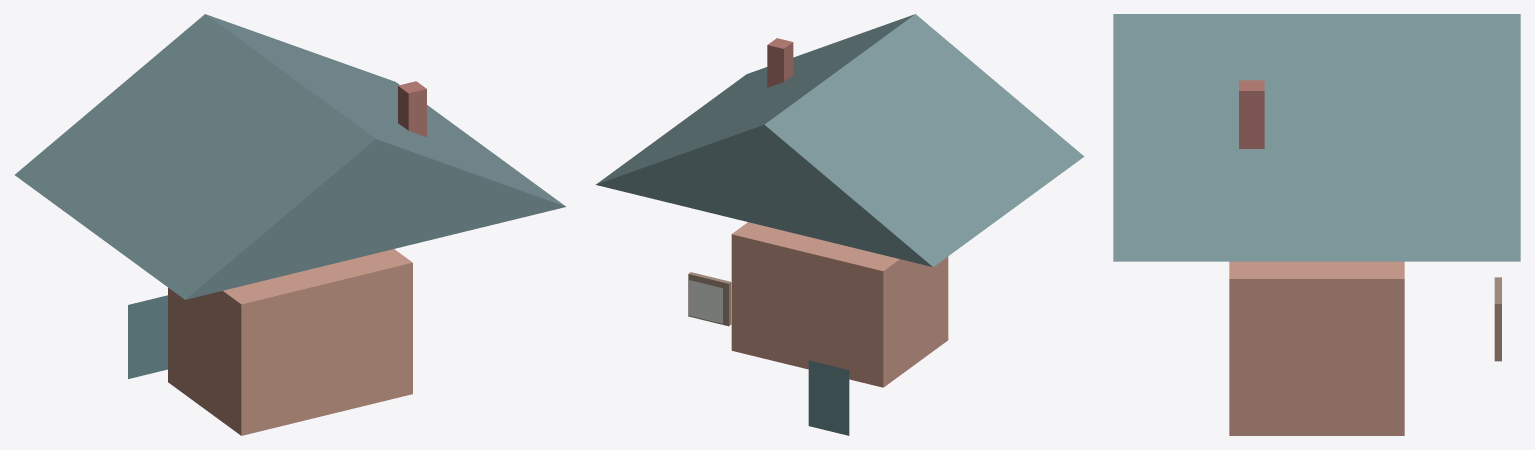
File: harbour-chandlery-01.glb
The picture shows the model from 3 angles, left to right: view 1: azimuth 30°, elevation 25°; view 2: azimuth 150°, elevation 25°; view 3: azimuth 270°, elevation 25°; orthographic projection. The views are drawn at different scales.
Parts seen in each view (by area): view 1: ChandleryRoof, ChandleryBody, Door, Chimney; view 2: ChandleryRoof, ChandleryBody, Door, ServiceWindow, Chimney, ServiceWindowFrame; view 3: ChandleryRoof, ChandleryBody, Chimney, ServiceWindowFrame.
Boxes of the visible parts, x1,y1,x2,y2 form: ChandleryRoof: [15, 14, 565, 299]; ChandleryBody: [168, 249, 412, 435]; Door: [128, 295, 167, 378]; Chimney: [398, 81, 426, 137]; ChandleryRoof: [596, 14, 1084, 266]; ChandleryBody: [731, 222, 948, 387]; Door: [808, 360, 849, 435]; ServiceWindow: [689, 280, 722, 323]; Chimney: [767, 38, 793, 87]; ServiceWindowFrame: [688, 272, 731, 326]; ChandleryRoof: [1113, 14, 1520, 261]; ChandleryBody: [1229, 261, 1404, 435]; Chimney: [1239, 80, 1264, 148]; ServiceWindowFrame: [1494, 277, 1501, 361].
Size of the model in its own units: 2.58 by 2.18 by 2.
